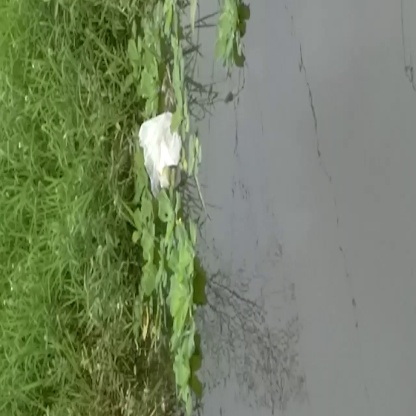plastic-bag: (138, 111, 193, 196)
